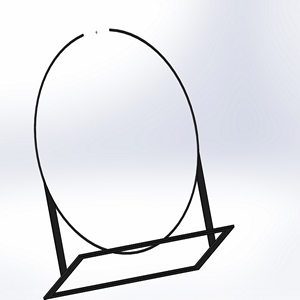circle: (29, 26, 235, 299)
